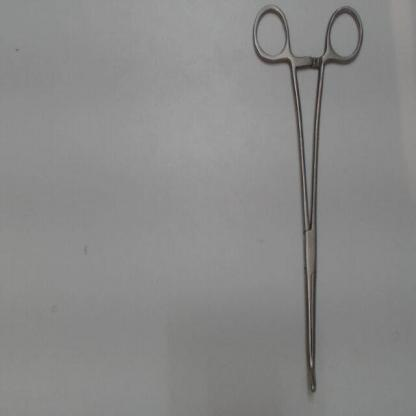Lahey Forceps: (247, 3, 369, 402)
